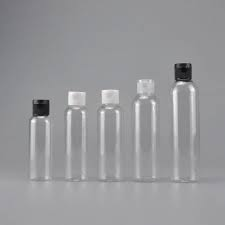available: (168, 60, 202, 183), (130, 74, 160, 182), (62, 84, 92, 187), (26, 95, 57, 186), (97, 85, 123, 186)
